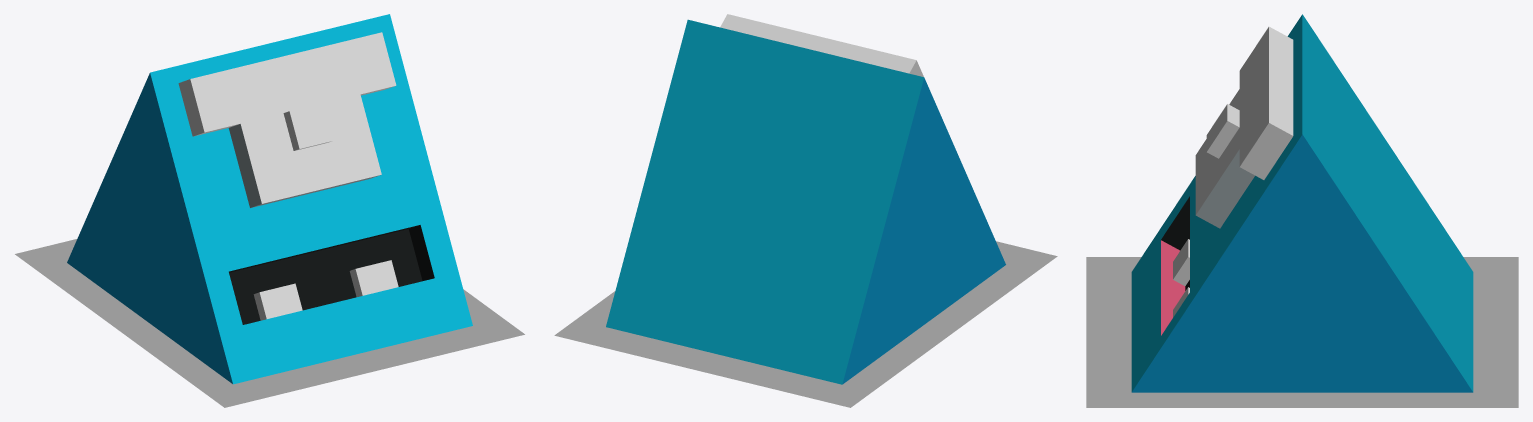
The model's file is EN_MobileBit_Cyan.fbx.
The picture shows the model from 3 angles, left to right: view 1: azimuth 30°, elevation 25°; view 2: azimuth 150°, elevation 25°; view 3: azimuth 270°, elevation 25°; orthographic projection. The views are drawn at different scales.
Parts seen in each view (by area): view 1: Body, Mouth, Shadow, Eyebrow, Eye, Pupil; view 2: Body, Shadow, Eyebrow; view 3: Body, Shadow, Eyebrow, Mouth, Eye, Pupil.
Boxes of the visible parts, left/top/right/bottom form: Body: left=67, top=14, right=472, bottom=384; Mouth: left=243, top=260, right=448, bottom=378; Shadow: left=15, top=239, right=524, bottom=407; Eyebrow: left=178, top=32, right=396, bottom=136; Eye: left=228, top=94, right=381, bottom=207; Pupil: left=283, top=103, right=333, bottom=150; Body: left=606, top=19, right=1005, bottom=384; Shadow: left=554, top=241, right=1057, bottom=407; Eyebrow: left=720, top=14, right=923, bottom=76; Body: left=1131, top=14, right=1473, bottom=392; Shadow: left=1086, top=257, right=1518, bottom=407; Eyebrow: left=1239, top=26, right=1293, bottom=179; Mouth: left=1131, top=239, right=1189, bottom=379; Eye: left=1195, top=89, right=1254, bottom=228; Pupil: left=1206, top=104, right=1239, bottom=158.
Bounding box in the file's own units: 62.68 × 50 × 75.87.
